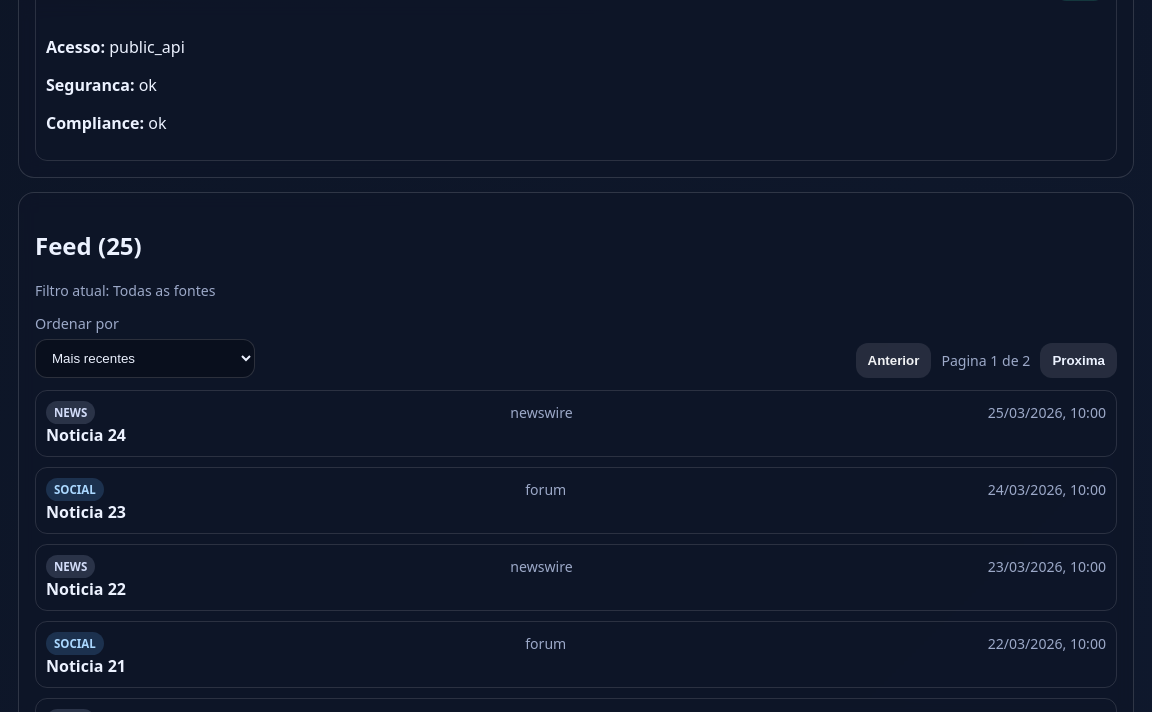
App › carrega dashboard e permite paginar o feed
The width and height of the screenshot is (1152, 712).
(page scrolled)
Expected: the heading "Feed (25)" is shown, [35,228,142,262]
Expected: the text "Pagina 1 de 2" is shown, [941,352,1030,370]
Click the button "Proxima". click: [1079, 361]
box: [1040,344,1117,378]
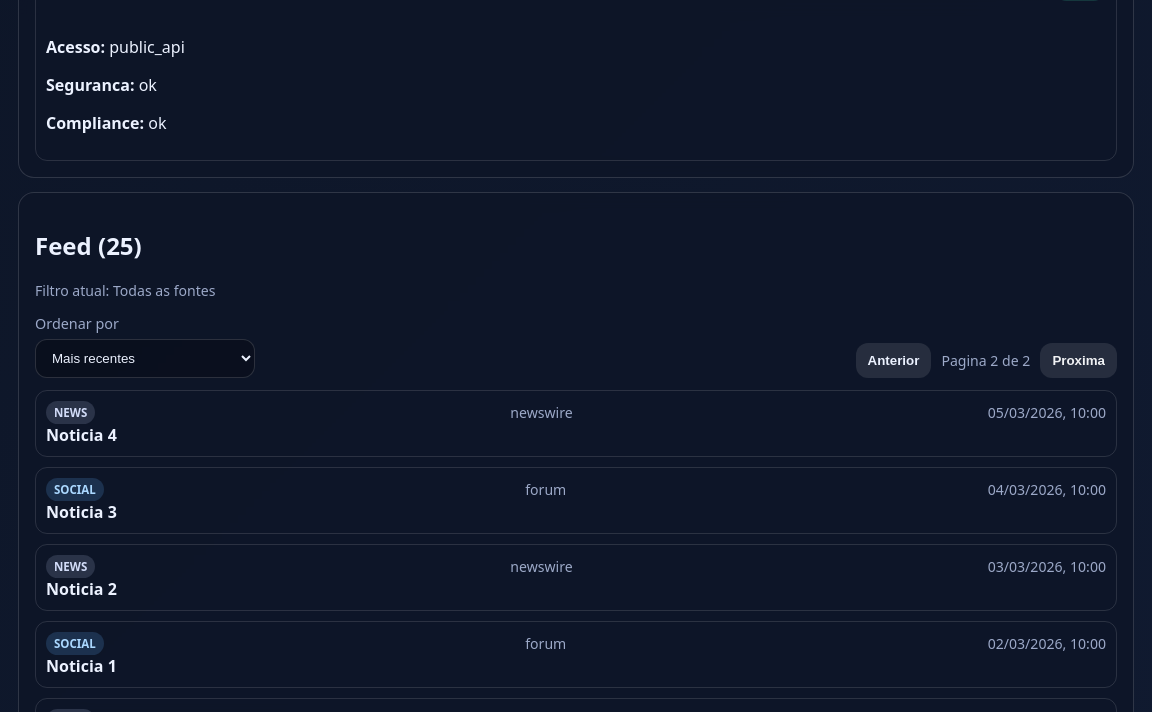
Result: the text "Pagina 2 de 2" is shown at [941,352,1030,370]
